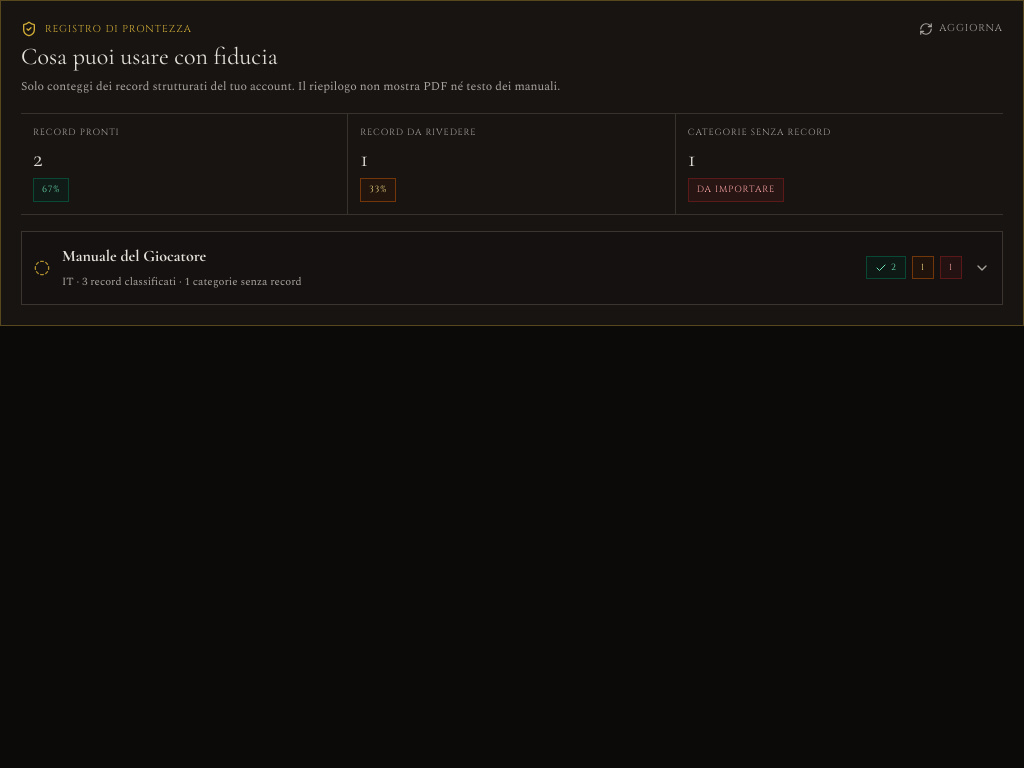
Test: LibraryCoverageReadiness › shows an overflow link when more than 5 records need review
Later steps or results of the test are not shown.
Click the button that starts with "Manuale del Giocatore".
click(134, 256)  # box [22,232,1002,304]
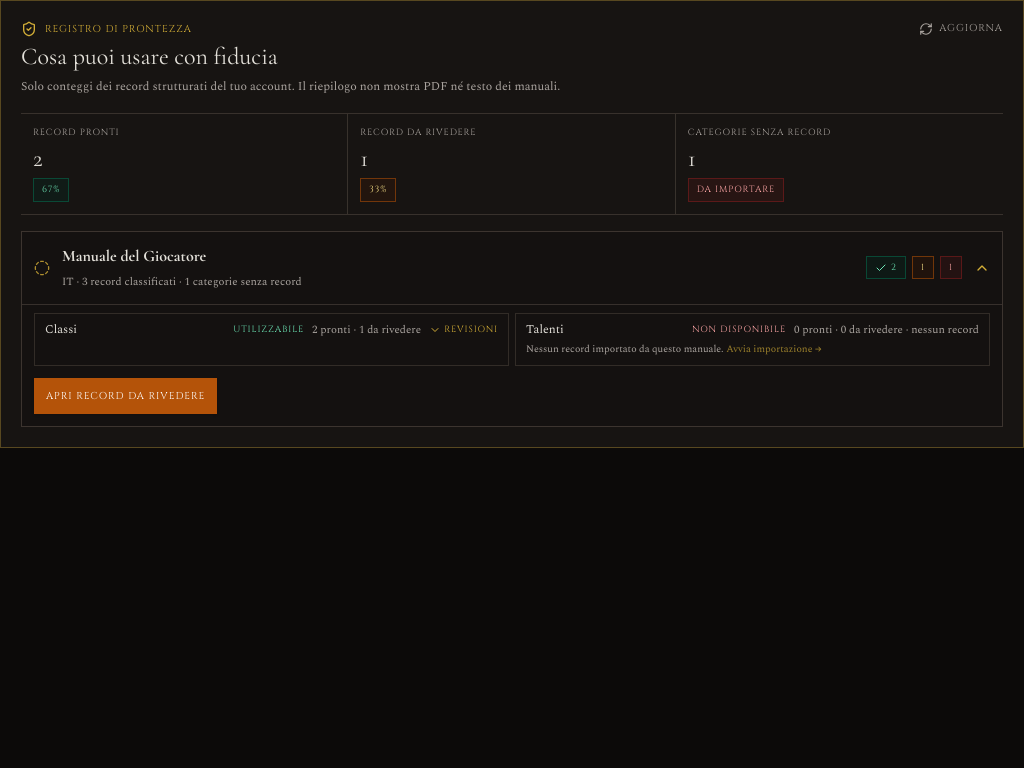
Click the button with test id "expand-category-manuale-giocatore.pdf-class".
click(464, 330)  # box [429,323,498,336]
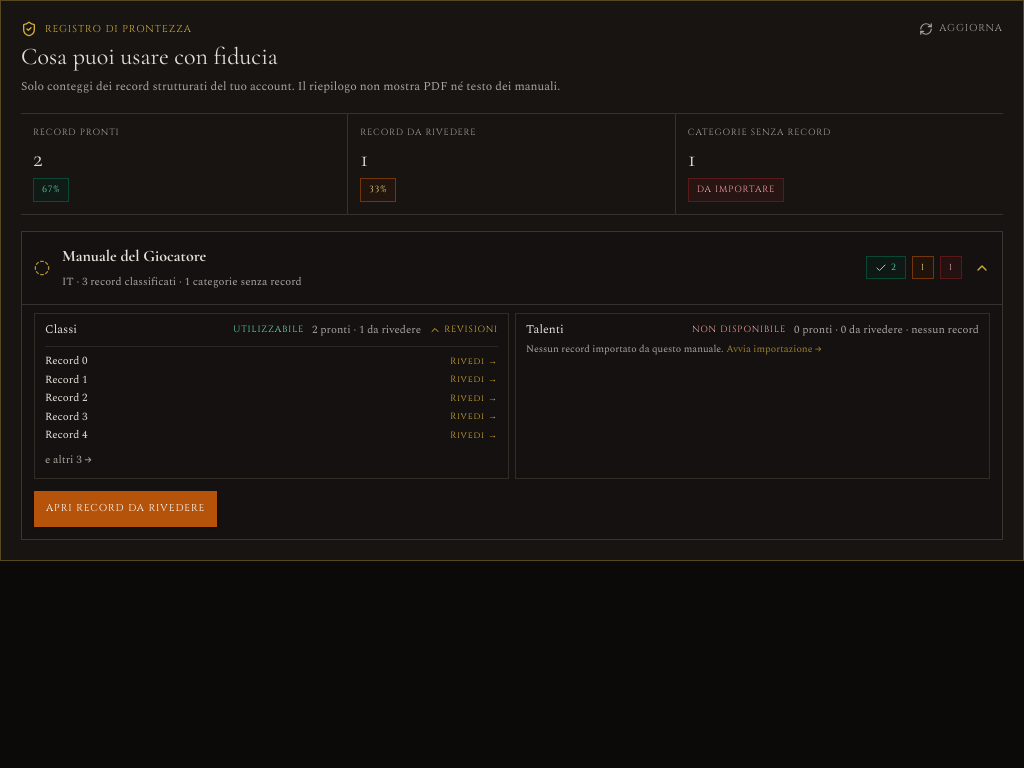
Result: the button with test id "category-records-overflow-manuale-giocatore.pdf-class" shows "e altri 3" at [45,452,92,468]
